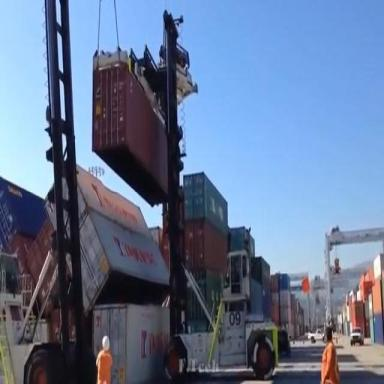forklift: (134, 1, 282, 384)
